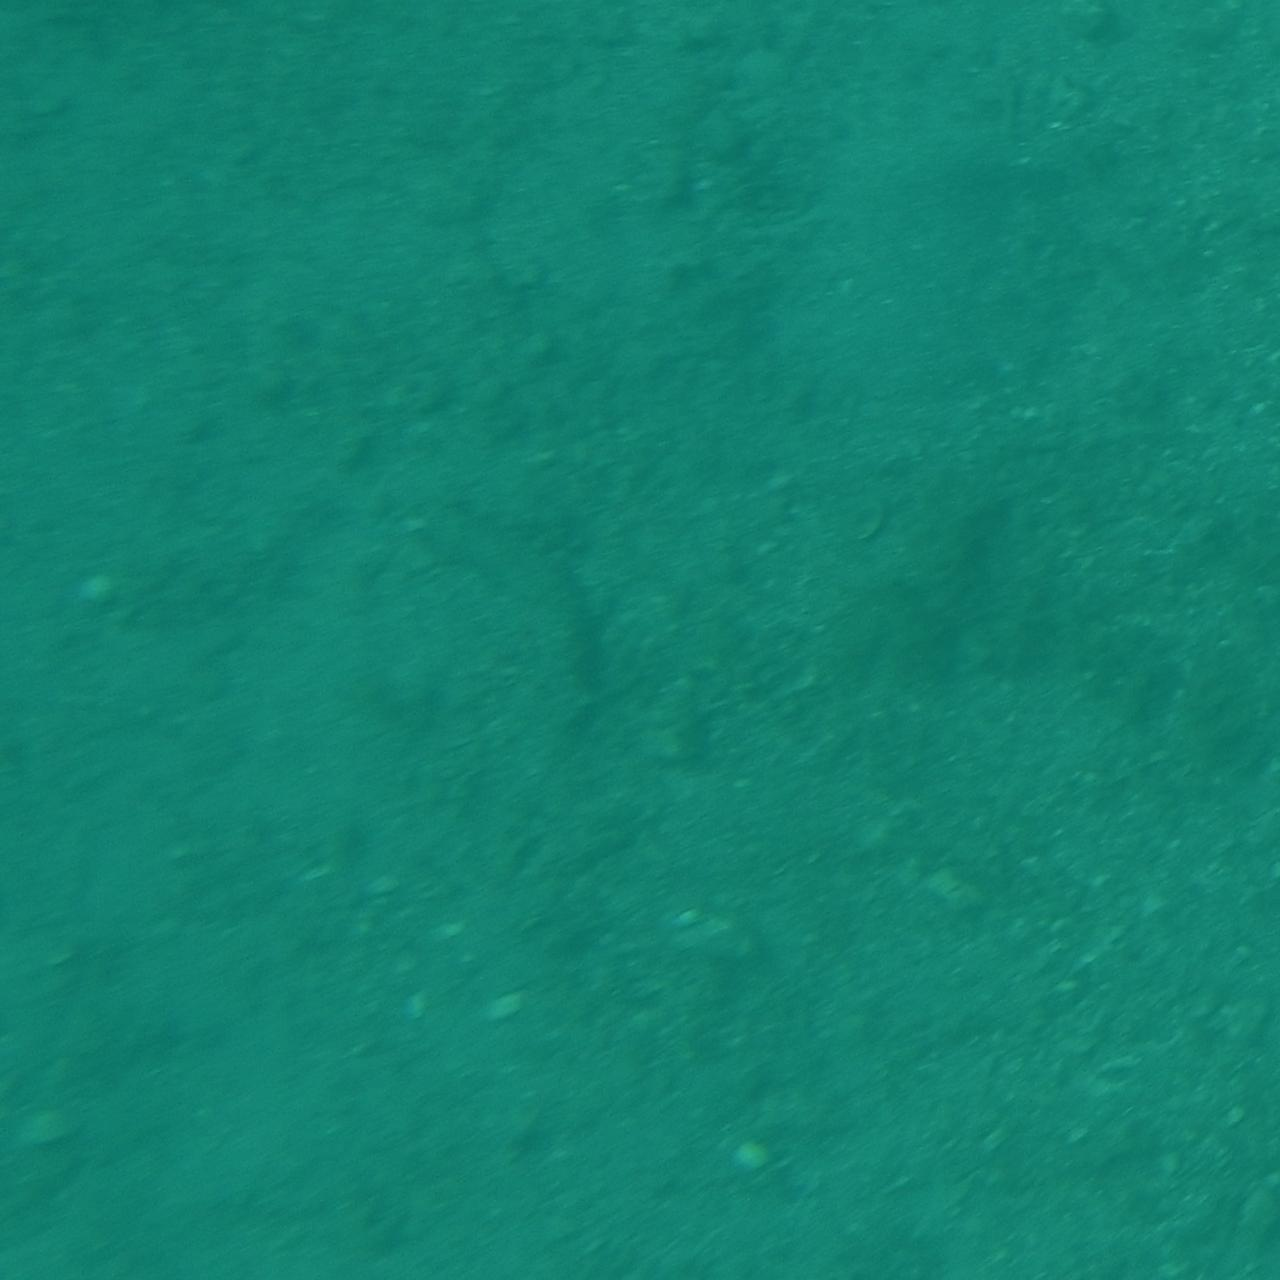Holothuria tubulosa: (401, 526, 608, 754)
